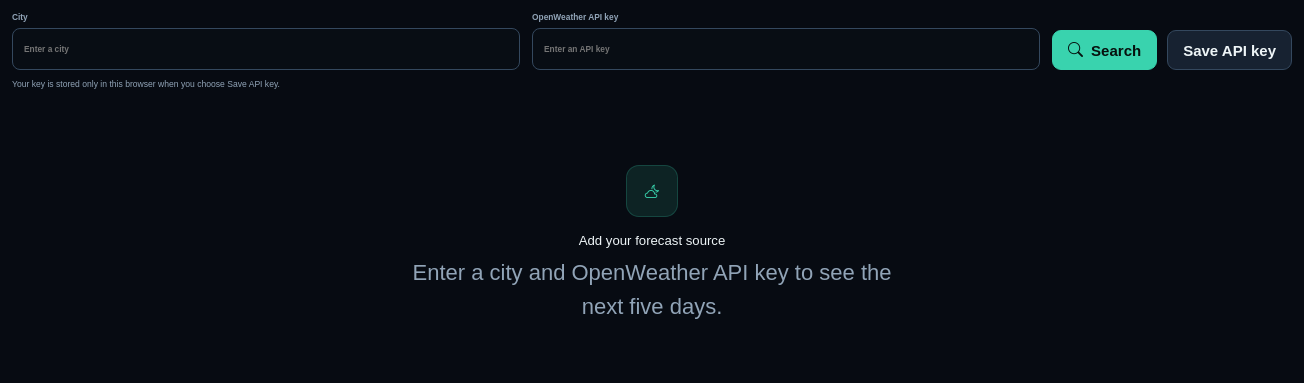
Weather › asks for an API key without sending an invalid request
Type "Berlin" into the search field labelled "City" at [266, 49], box [12,28,520,70]
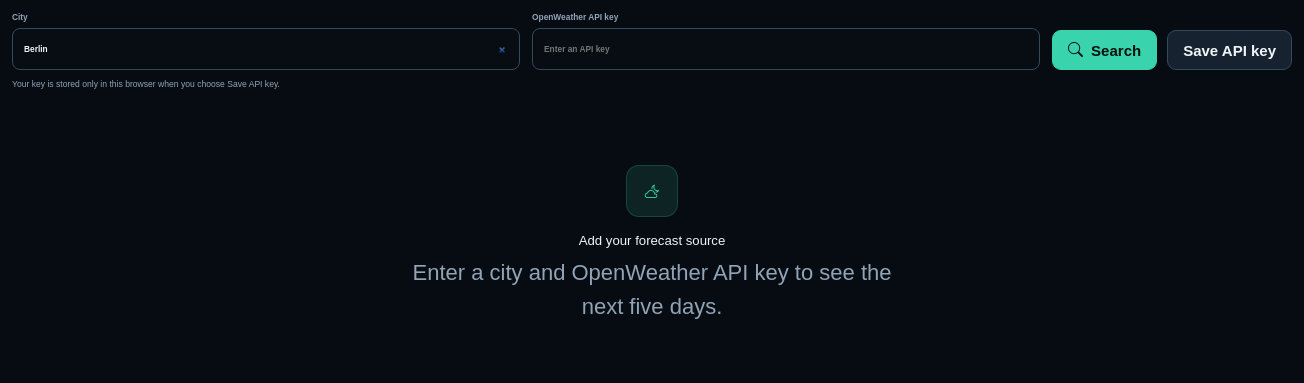
Click the button "Search" at [1105, 50], box [1052,30,1157,70]
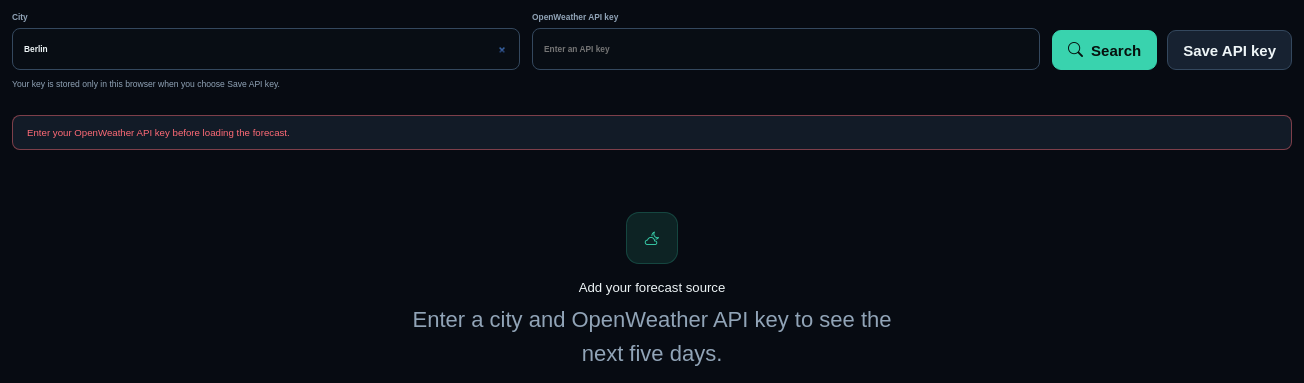
Check: the message reads "Enter your OpenWeather API key before loading the forecast.", box [27,127,290,138]
